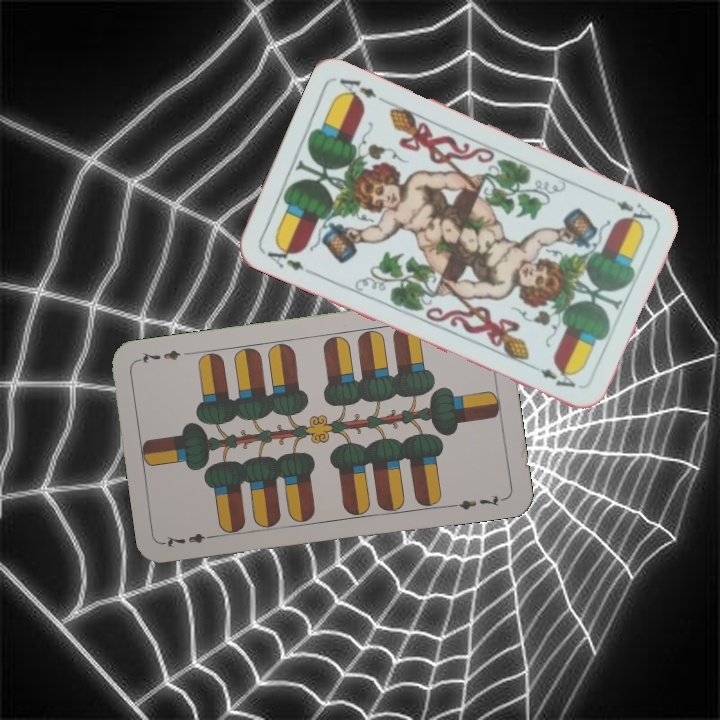E7: (161, 529, 220, 551)
EA: (259, 240, 307, 273), (612, 196, 655, 229)
